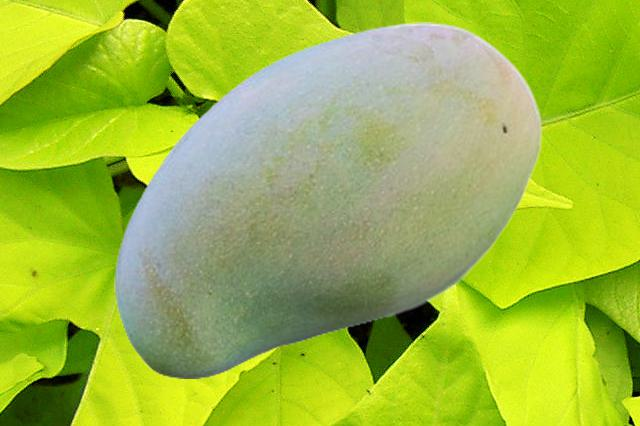green_mango: (114, 22, 542, 377)
